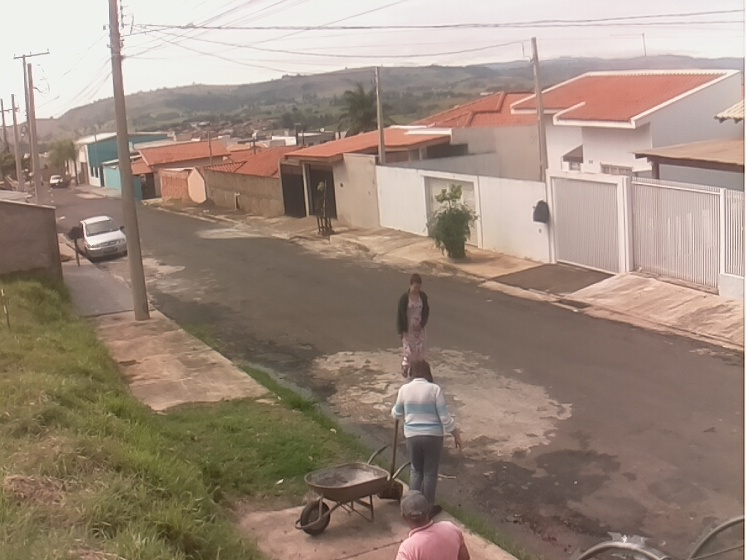person: (391, 359, 463, 514), (393, 489, 470, 560), (396, 273, 429, 375)
